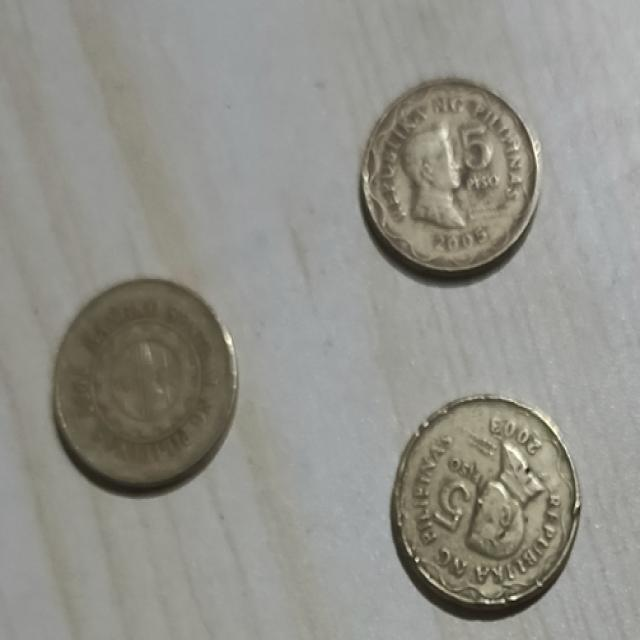5_peso: (392, 396, 580, 608), (53, 279, 237, 487), (363, 79, 539, 275)
